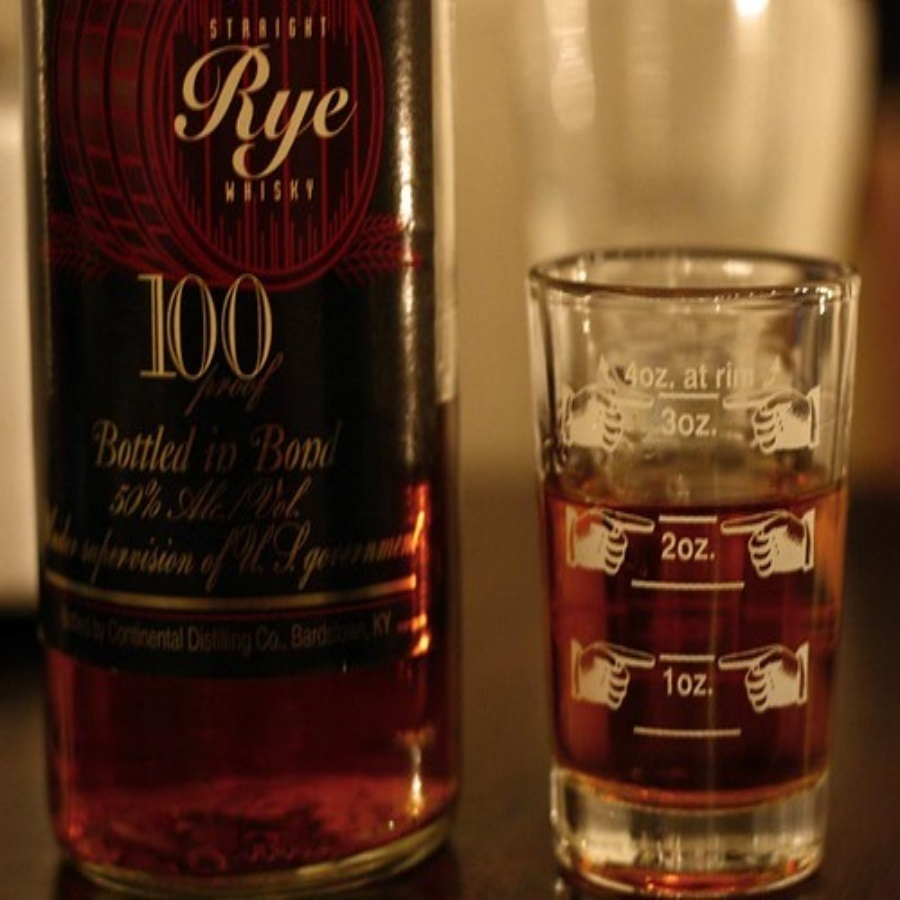whiskey: (531, 258, 860, 862)
